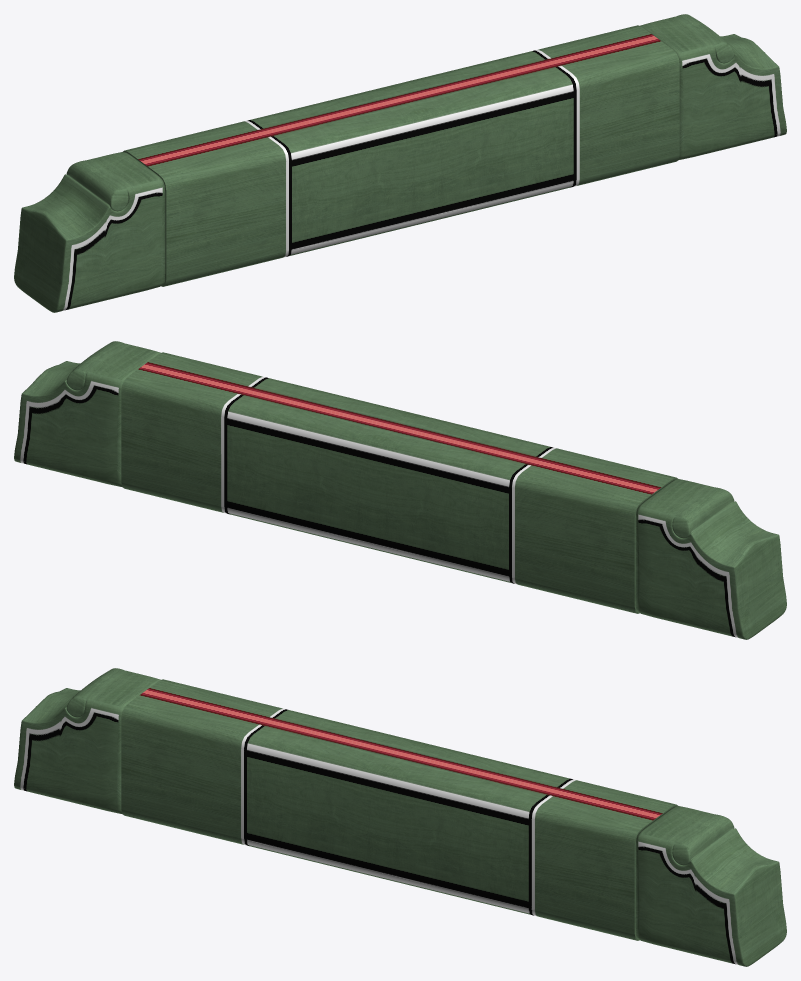
Rendered from SM_SJJ_HG_Beam03A.fbx.
3 renders of one model, top to bottom at view 1: azimuth 30°, elevation 25°; view 2: azimuth 150°, elevation 25°; view 3: azimuth 330°, elevation 25°, orthographic.
Visible parts, largest first — view 1: SM_SJJ_HG_Beam03A; view 2: SM_SJJ_HG_Beam03A; view 3: SM_SJJ_HG_Beam03A.
Part boxes in pixels (x1,y1,x2,y2): SM_SJJ_HG_Beam03A: (14, 14, 786, 312); SM_SJJ_HG_Beam03A: (14, 341, 786, 639); SM_SJJ_HG_Beam03A: (14, 668, 786, 966).
Bounding box in the file's own units: 291 × 31.01 × 42.08.
Materials: 1 (1 with a texture image).
